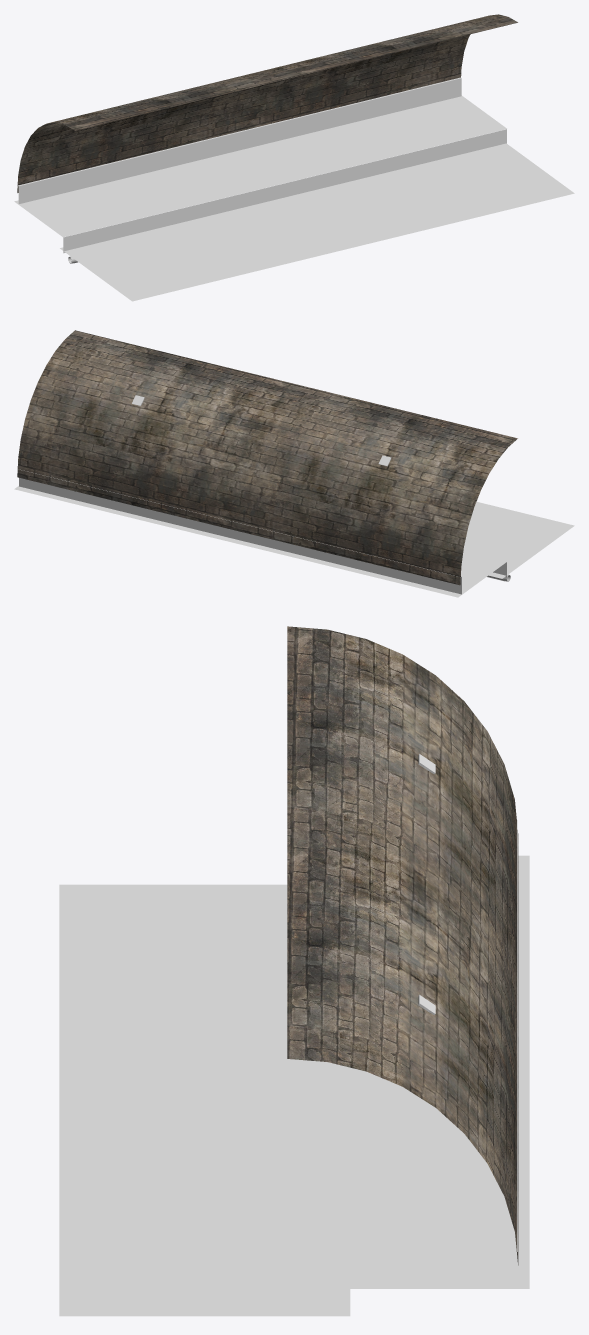
Rendered from sewerrrrr fixed.fbx.
3 renders of one model, top to bottom at view 1: azimuth 30°, elevation 25°; view 2: azimuth 150°, elevation 25°; view 3: azimuth 270°, elevation 25°, orthographic. The views are drawn at different scales.
Visible parts, largest first — view 1: Sewer_merged-81_m, Cylinder, Sewer_merged-75_m; view 2: Cylinder, Sewer_merged-81_m, Sewer_merged-75_m; view 3: Sewer_merged-81_m, Cylinder.
Part boxes in pixels (x1,y1,x2,y2): Sewer_merged-81_m: (14,95,574,301); Cylinder: (17,14,517,192); Sewer_merged-75_m: (18,77,506,253); Cylinder: (17,330,517,585); Sewer_merged-81_m: (14,486,574,597); Sewer_merged-75_m: (19,469,506,594); Sewer_merged-81_m: (59,855,529,1316); Cylinder: (287,626,518,1265).
Size of the model in its own units: 2173 by 650 by 996.
